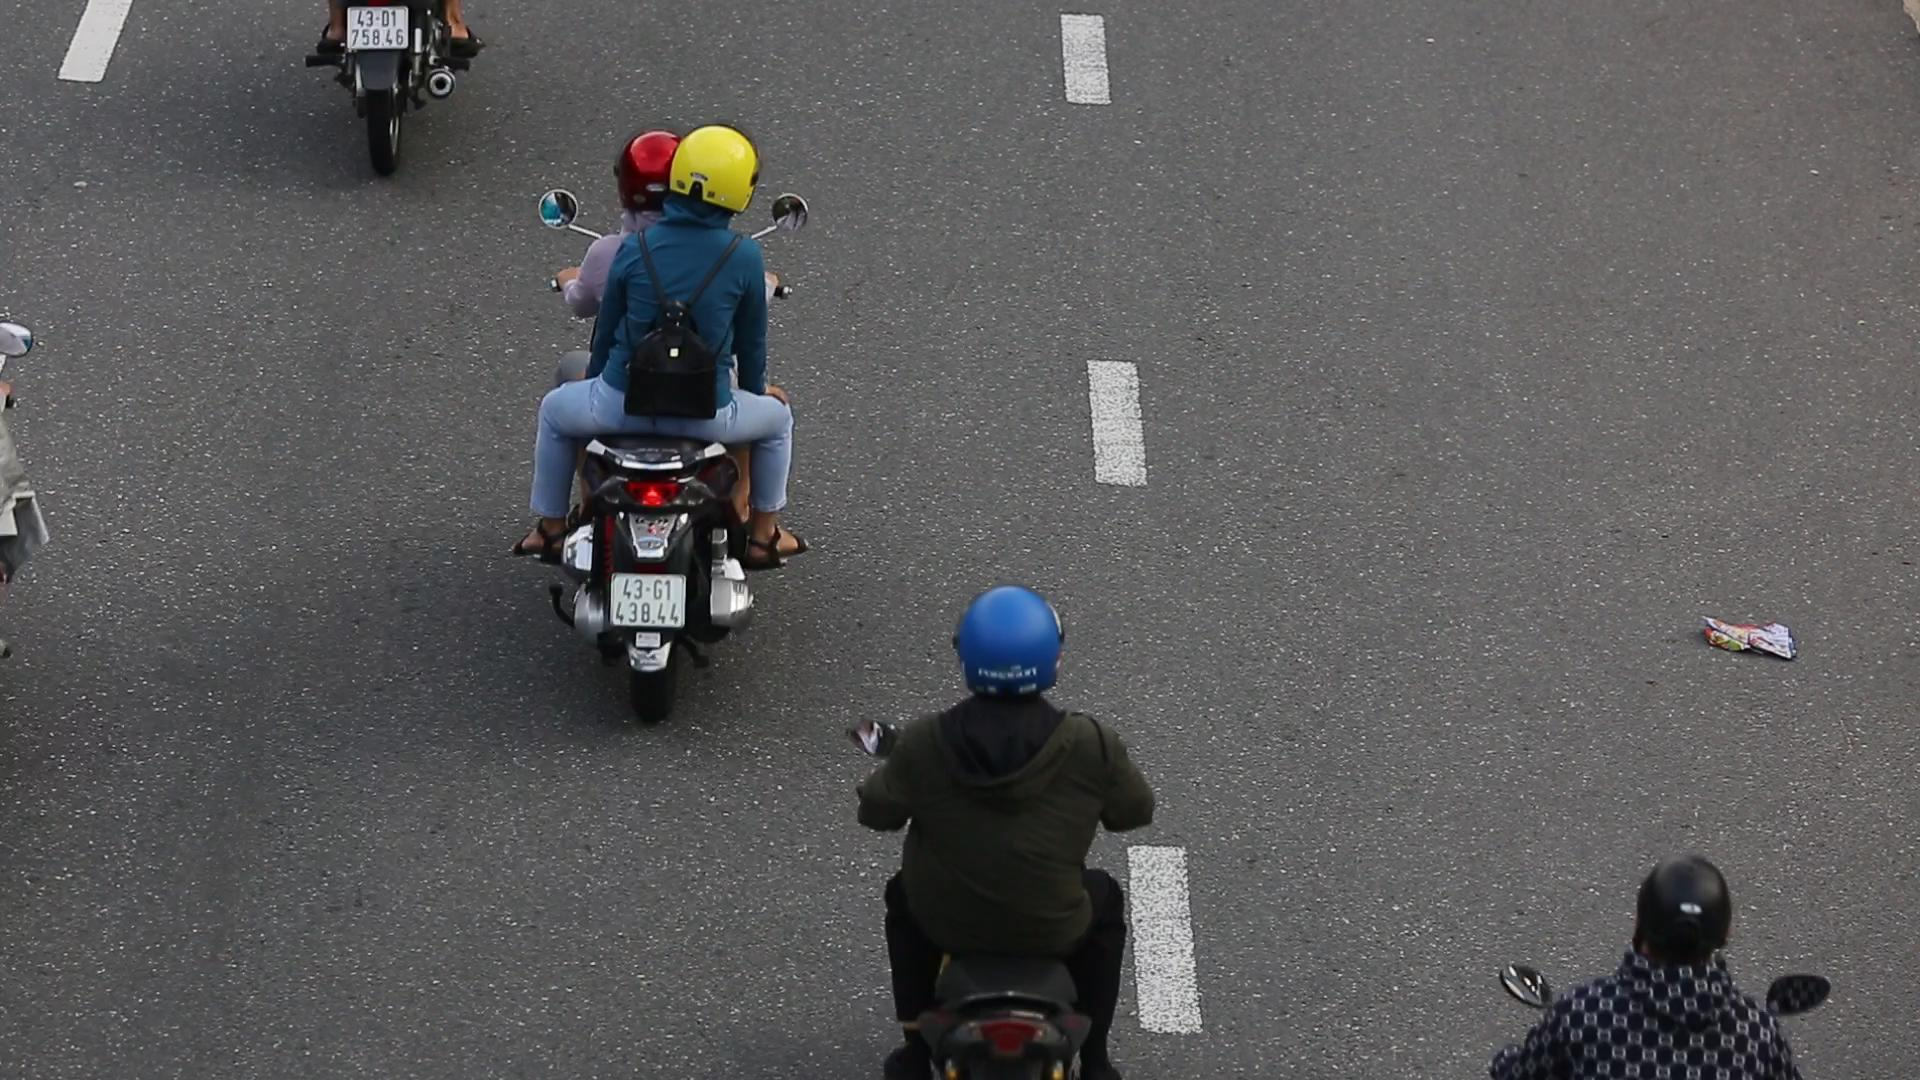motobike: (517, 107, 814, 728)
